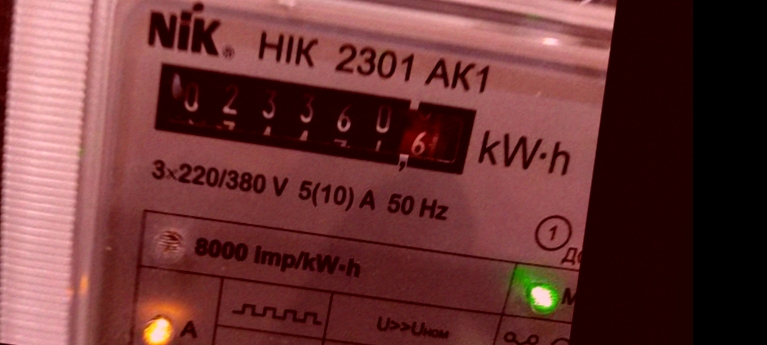0: (180, 77, 207, 115), (372, 100, 399, 138)
2: (220, 81, 246, 118)
3: (259, 86, 283, 124), (298, 91, 320, 127)
6: (334, 99, 358, 135), (409, 124, 432, 159)
screen: (138, 49, 499, 196)
